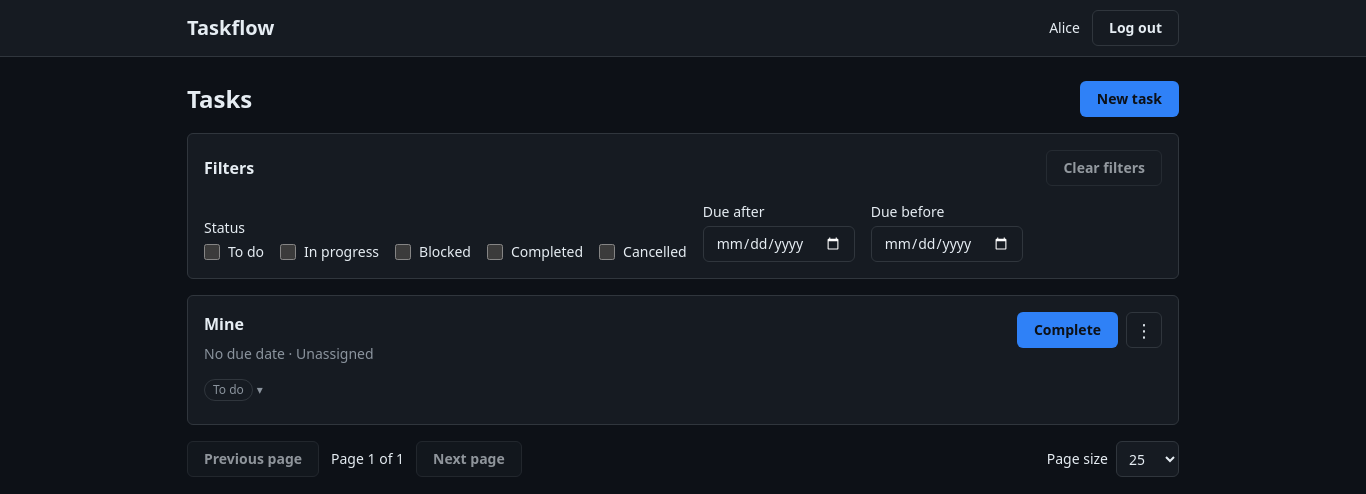
Test: card actions menu › test_ac03_the_creator_has_view_edit_and_delete_in_the_menu_and_complete_beside_it
expect the button "Complete" is shown: met, box [1017, 312, 1118, 348]
expect the button "edit" is not shown: met
Click the button named "actions for".
click(1144, 330)  # box [1126, 312, 1162, 348]
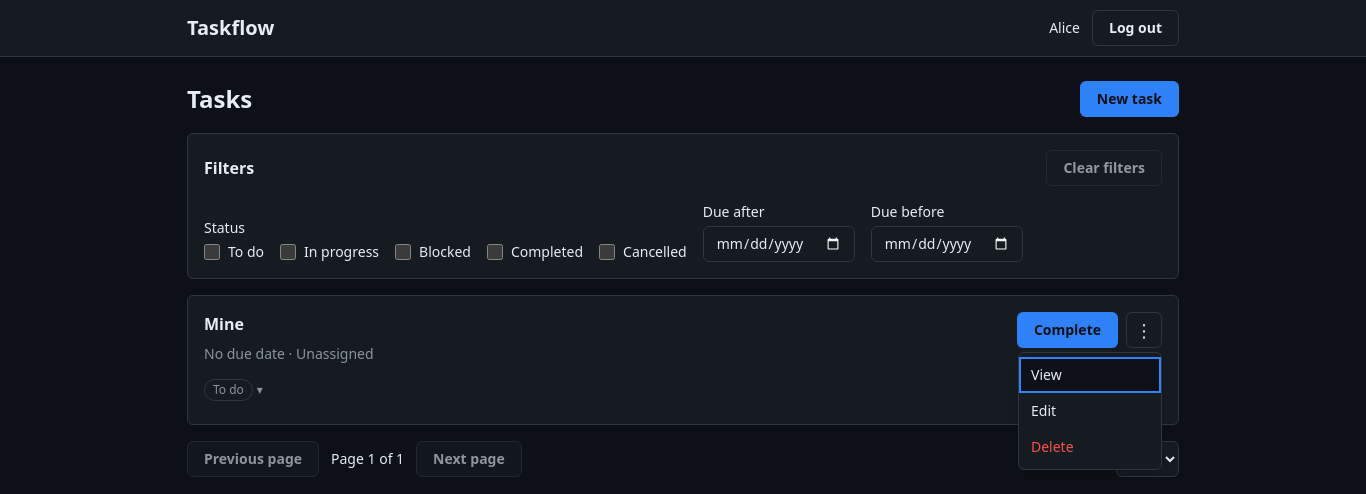
expect the menu items read "View", "Edit", "Delete", in this order: met, box [1019, 357, 1161, 393]; [1019, 393, 1161, 429]; [1019, 429, 1161, 465]
